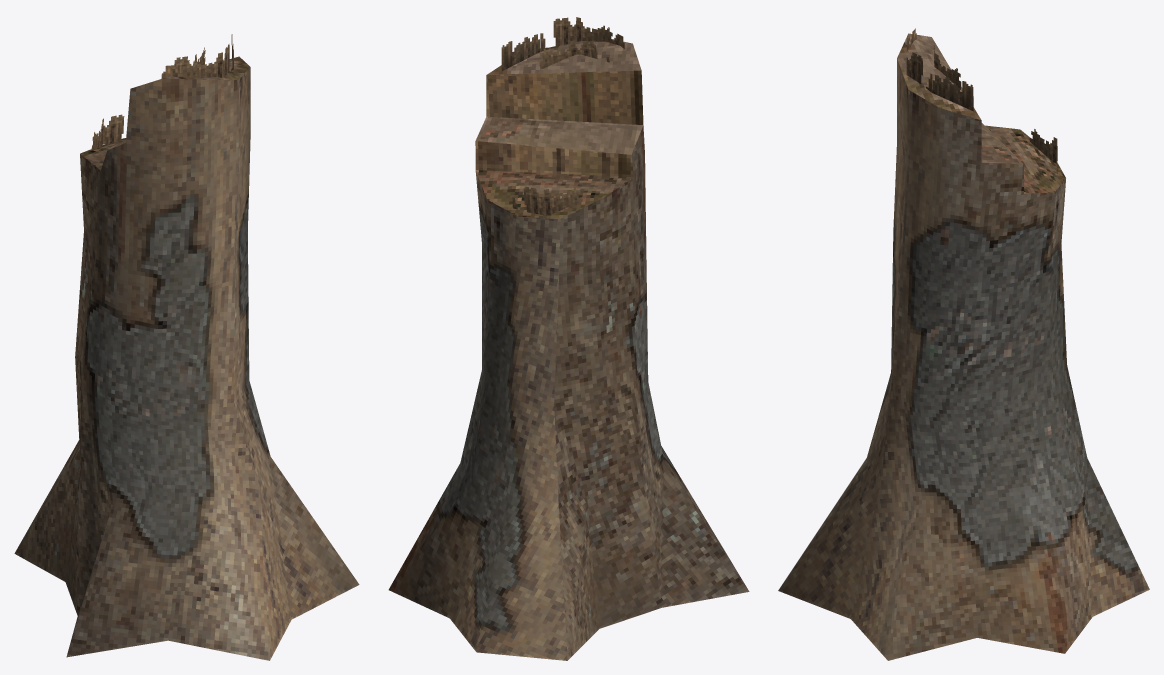
The model's file is pine_tree_stump_01.glb.
3 renders of one model, left to right at view 1: azimuth 30°, elevation 25°; view 2: azimuth 150°, elevation 25°; view 3: azimuth 270°, elevation 25°, orthographic. The views are drawn at different scales.
Parts seen in each view (by area): view 1: pine_tree_stump_01; view 2: pine_tree_stump_01; view 3: pine_tree_stump_01.
Part boxes in pixels (<box>): pine_tree_stump_01: <box>14,34,359,660</box>; pine_tree_stump_01: <box>388,17,749,660</box>; pine_tree_stump_01: <box>778,28,1149,660</box>.
Bounding box in the file's own units: 0.5873 × 1.07 × 0.6504.
Materials: 1 (1 with a texture image).
